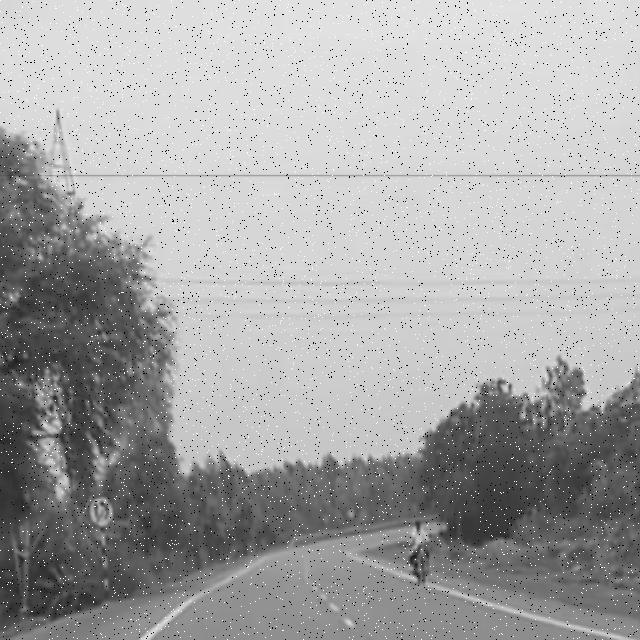No_overtaking: (87, 497, 113, 530)
